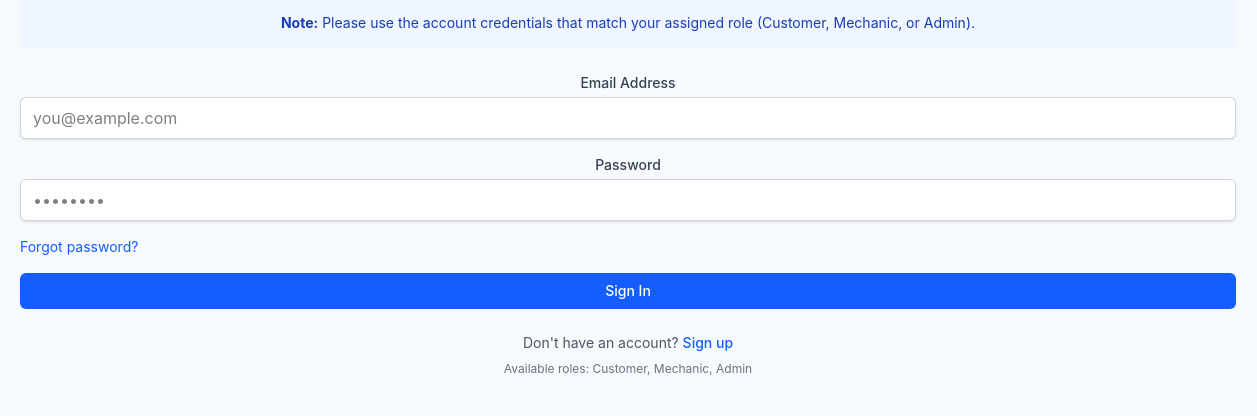
Test: Login Page › shows validation error for short password
This screenshot has width=1257, height=416.
Type "test@example.com" into the field labelled "Email Address" at (628, 118), box [20,97,1236,139]
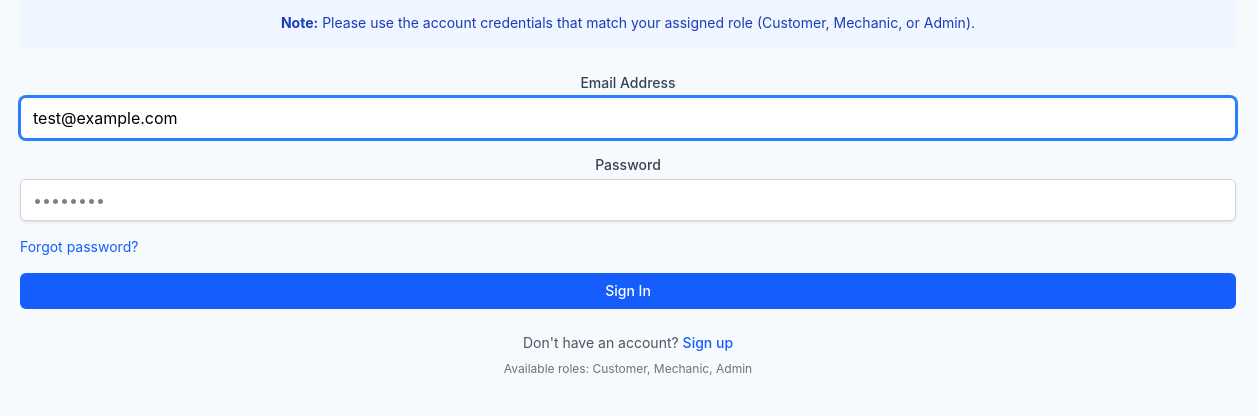
Type "123" into the password field labelled "Password" at (628, 200), box [20,179,1236,221]
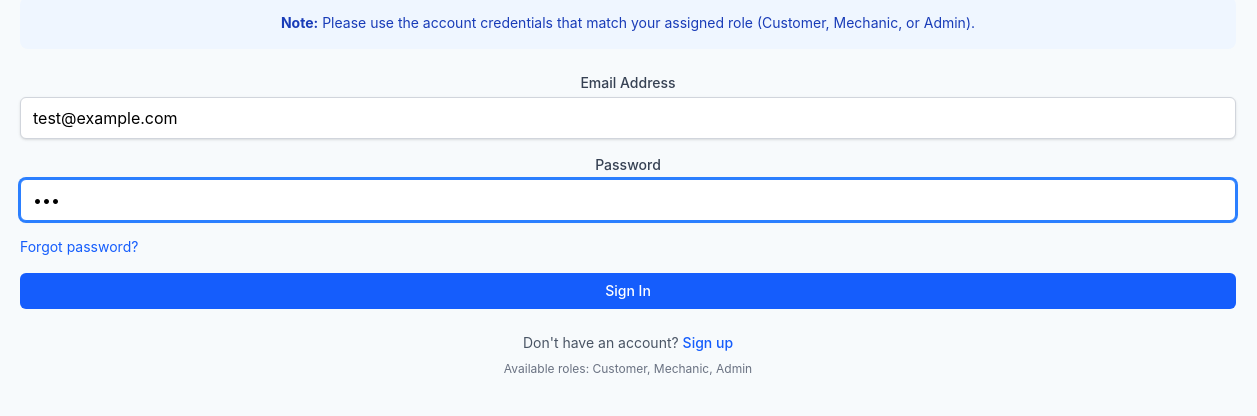
Click the button "Sign In" at (628, 291), box [20,273,1236,309]
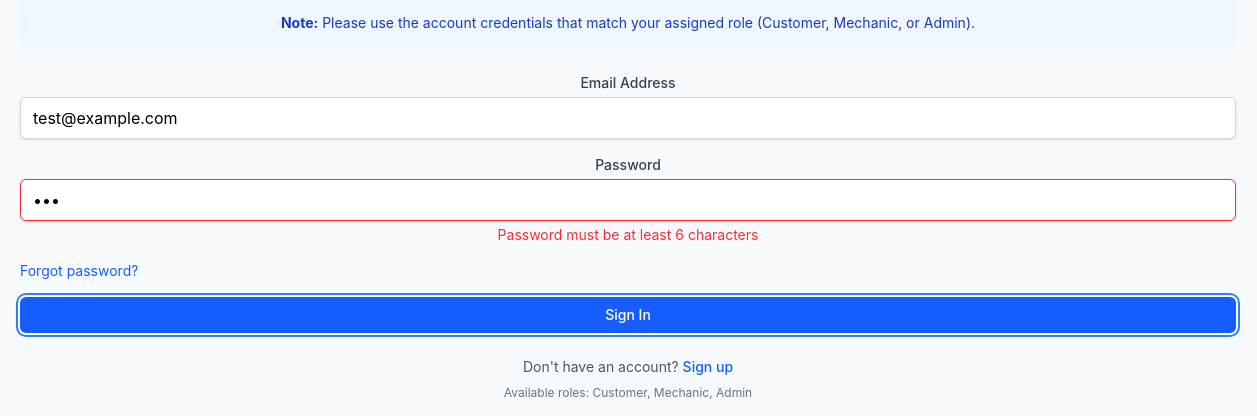
expect the text "Password must be at least 6 characters" is shown: met, box [498,226,758,243]
